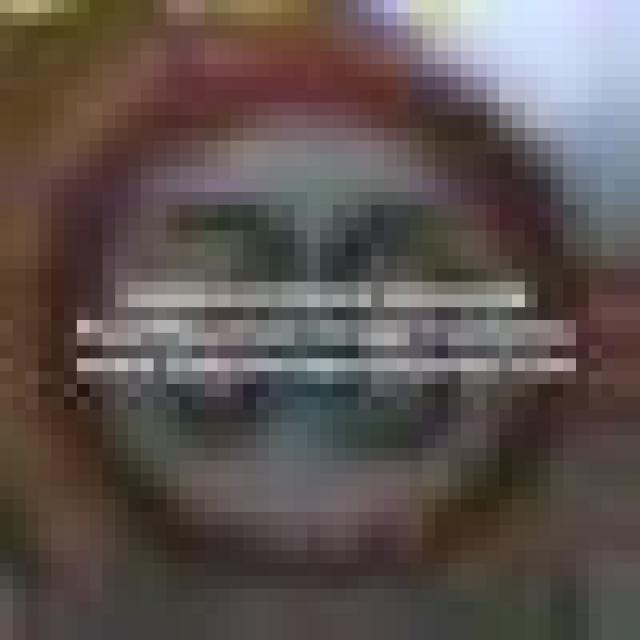SPEED_LIMIT_30: (38, 51, 576, 563)
